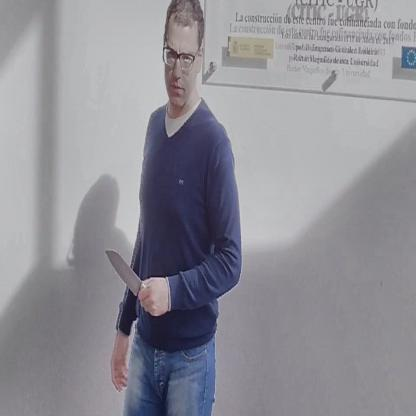knife: (102, 243, 150, 309)
